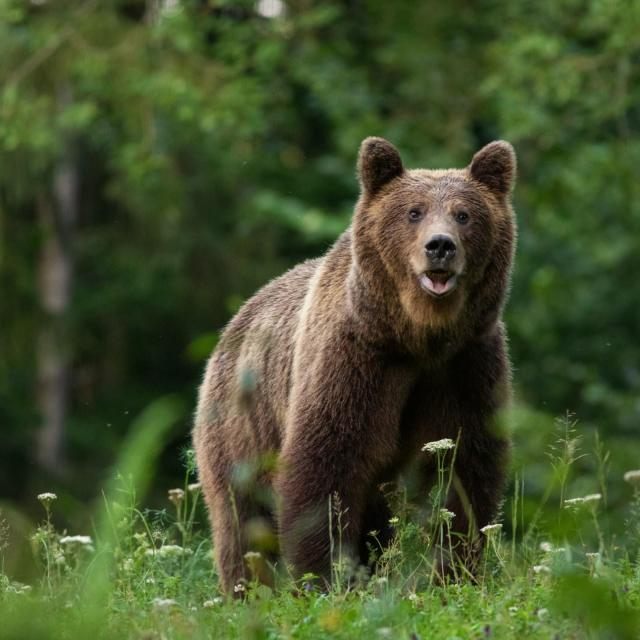Bear: (192, 137, 518, 601)
